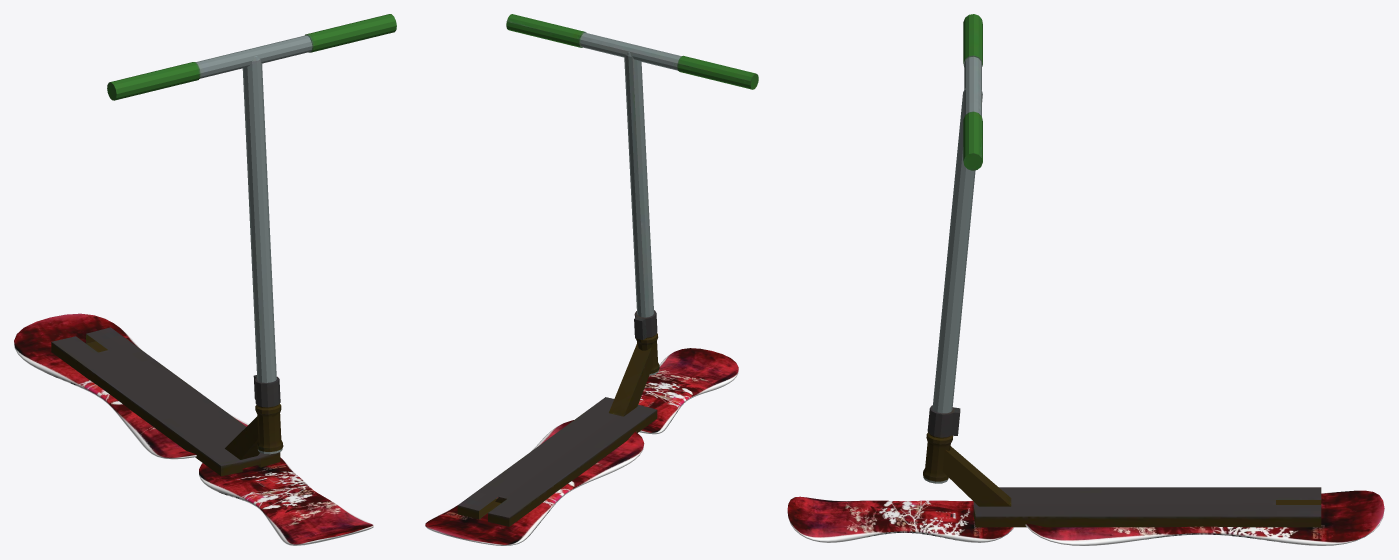
The model's file is scoot.glb.
3 renders of one model, left to right at view 1: azimuth 30°, elevation 25°; view 2: azimuth 150°, elevation 25°; view 3: azimuth 270°, elevation 25°, orthographic. The views are drawn at different scales.
Visible parts, largest first — view 1: steer, deck; view 2: deck, steer; view 3: deck, steer.
Boxes of the visible parts, x1,y1,x2,y2 form: steer: (107,14,396,545); deck: (14,85,283,475); deck: (425,22,751,545); steer: (506,14,758,434); deck: (923,20,1384,545); steer: (787,14,1013,542).
Size of the model in its own units: 0.652 by 0.9672 by 1.18.
2 materials, 2 textured.
